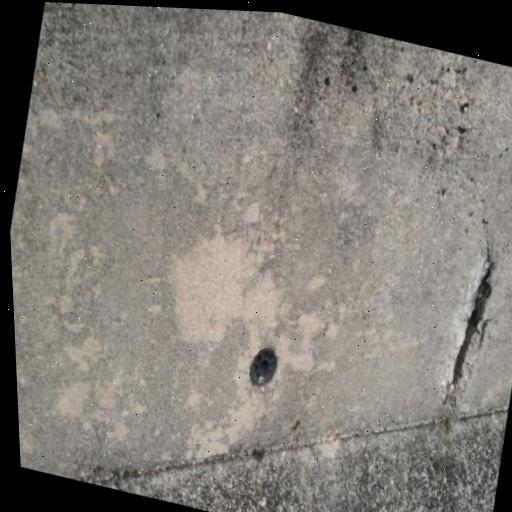exposed_rebar: (452, 263, 493, 391)
